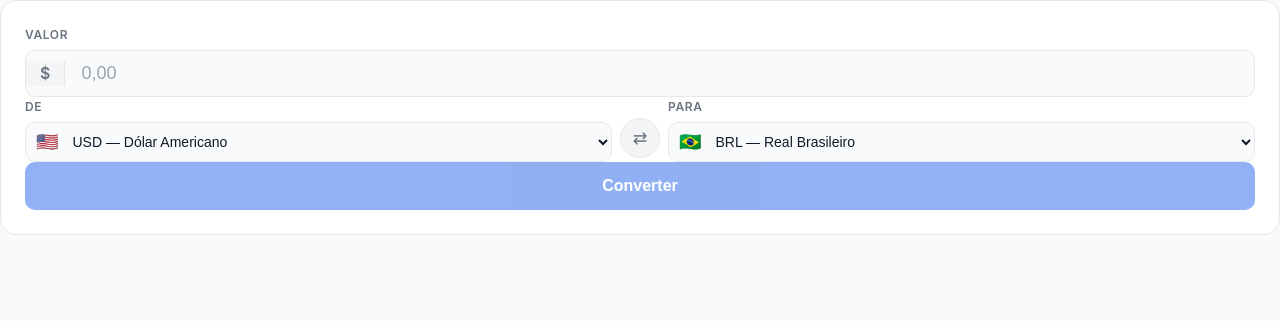
Conversor › estado de erro › exibe mensagem de erro quando o fetch falha
The width and height of the screenshot is (1280, 321).
In the field with placeholder "0,00": (660, 74) left=65, top=51, right=1254, bottom=96, type "100"
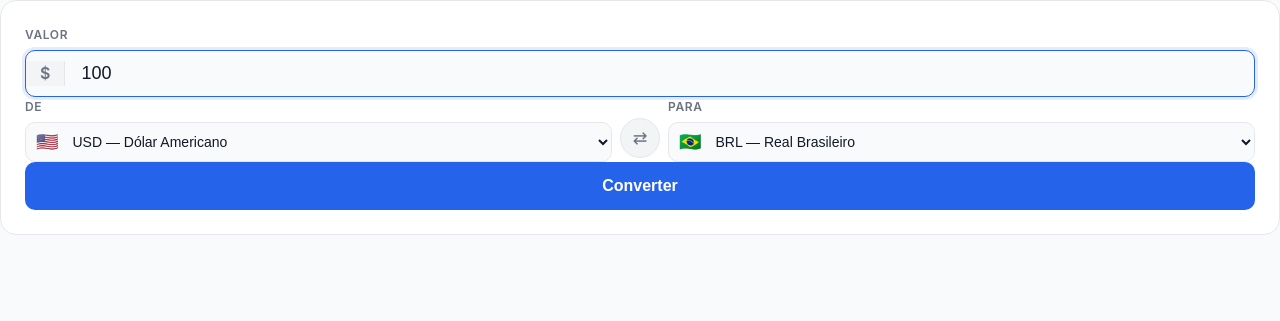
Click the button "Converter": (640, 186) left=25, top=162, right=1255, bottom=210
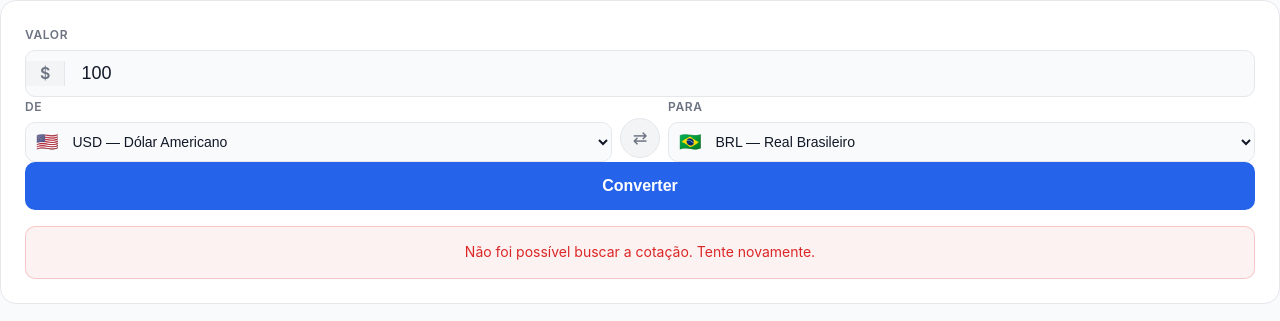
Check: the message "Não foi possível buscar a cotação. Tente novamente." is shown, box left=25, top=226, right=1255, bottom=279
Check: the message shows "Não foi possível", box left=465, top=243, right=815, bottom=260
